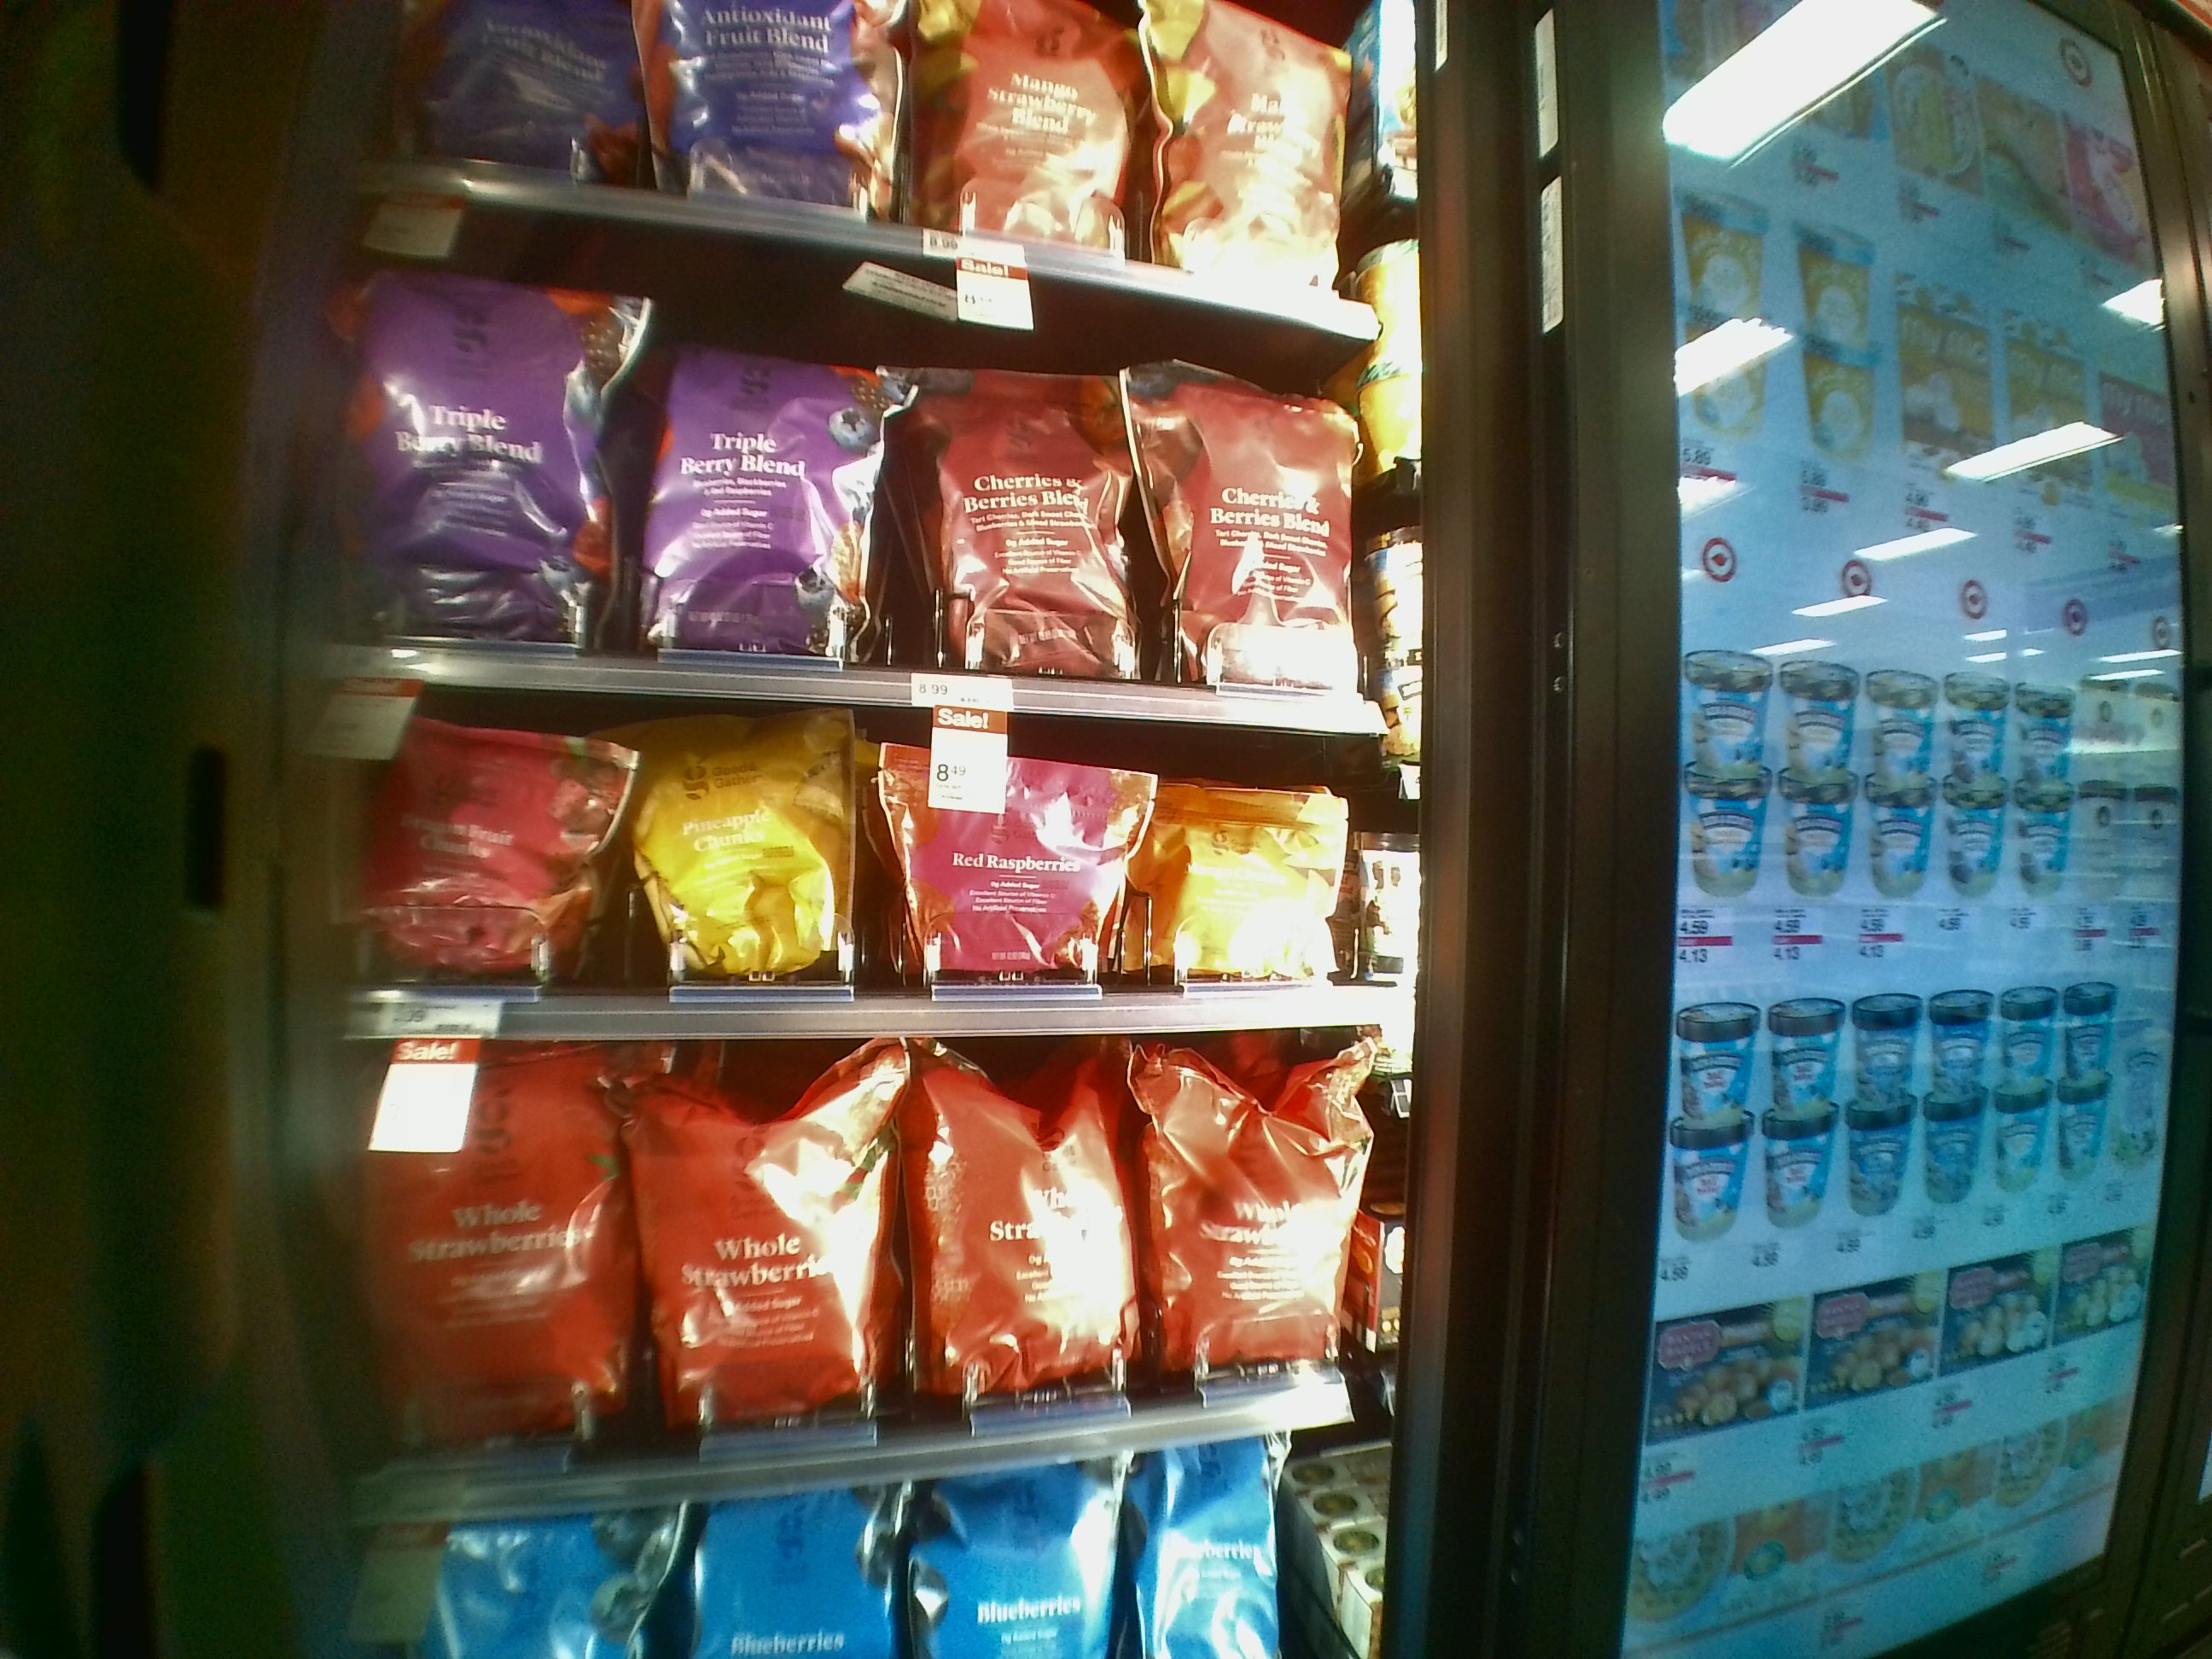shelf: (355, 1037, 1407, 1511), (324, 321, 1399, 728), (326, 692, 1407, 1035)
